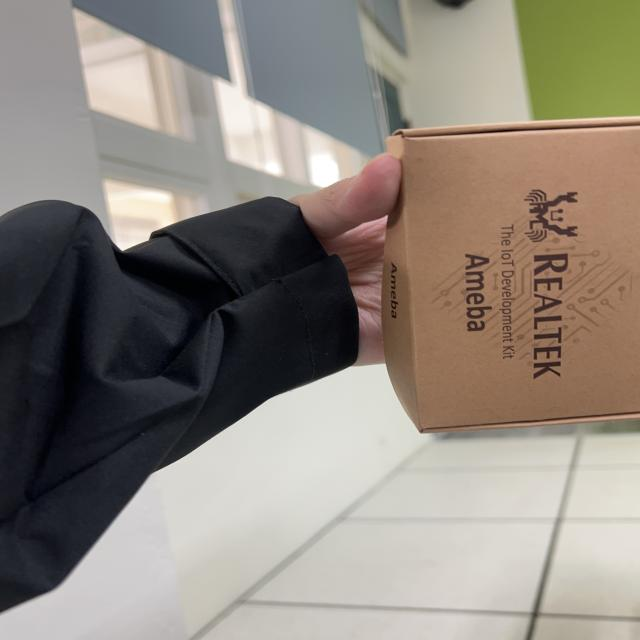box: (365, 106, 640, 462)
